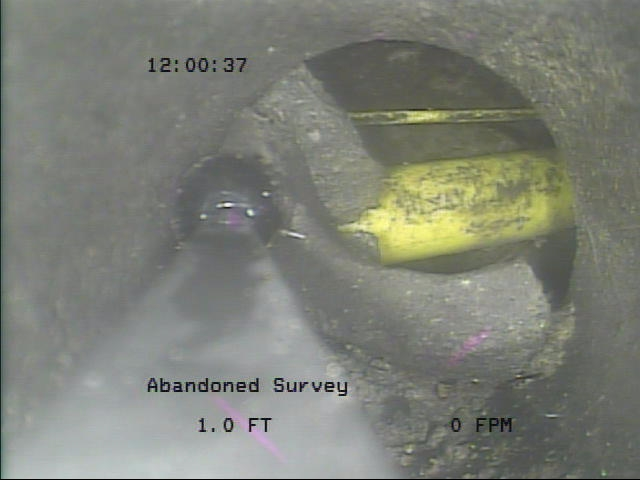cb: (249, 147, 601, 270), (312, 90, 576, 134)
